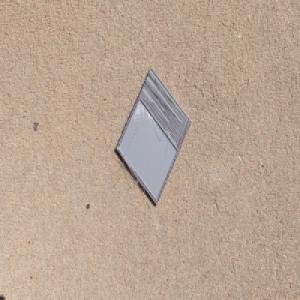PlasticPart: (115, 66, 193, 207)
